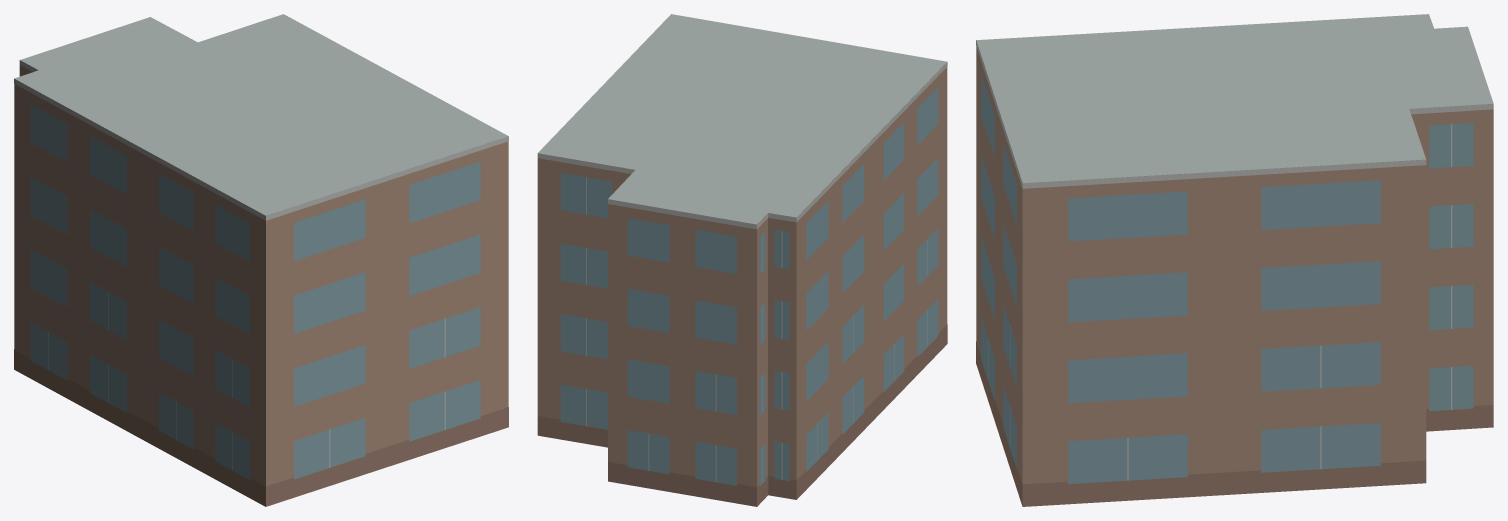
File: survey-upis-32998136.glb
The picture shows the model from 3 angles, left to right: view 1: azimuth 30°, elevation 25°; view 2: azimuth 150°, elevation 25°; view 3: azimuth 270°, elevation 25°; orthographic projection. The views are drawn at different scales.
Parts seen in each view (by area): view 1: survey-upis-32998136.tmp; view 2: survey-upis-32998136.tmp; view 3: survey-upis-32998136.tmp.
Boxes of the visible parts, x1=… form: survey-upis-32998136.tmp: x1=14, y1=14, x2=508, y2=506; survey-upis-32998136.tmp: x1=537, y1=14, x2=947, y2=506; survey-upis-32998136.tmp: x1=976, y1=14, x2=1493, y2=506.
Bounding box in the file's own units: 15.88 × 14.15 × 20.51.
